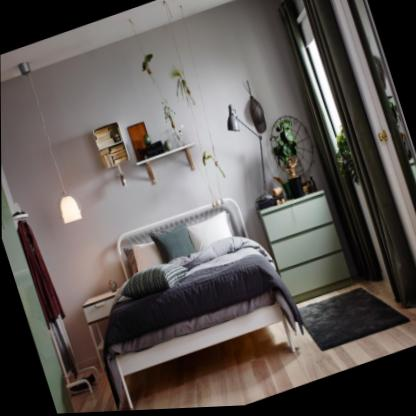Bed: (76, 188, 299, 413)
